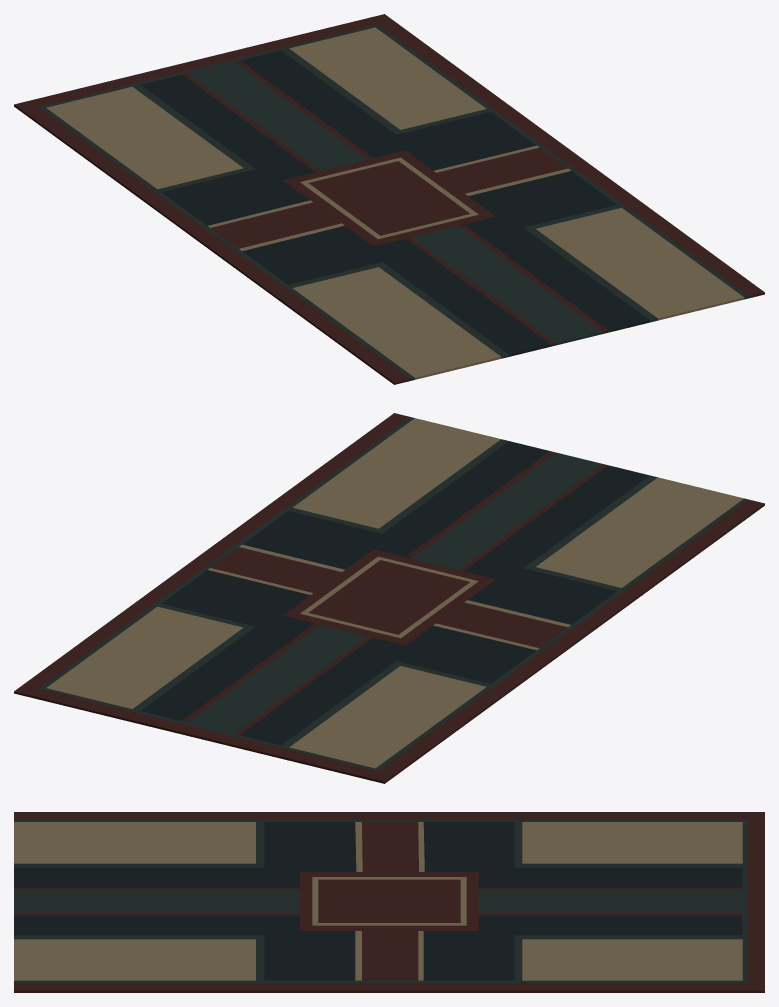
The model's file is Carpet_endpiece_001.fbx.
The picture shows the model from 3 angles, top to bottom: view 1: azimuth 30°, elevation 25°; view 2: azimuth 150°, elevation 25°; view 3: azimuth 270°, elevation 25°; orthographic projection.
Parts seen in each view (by area): view 1: carpet end_001; view 2: carpet end_001; view 3: carpet end_001.
Part boxes in pixels (bbox=[...]): carpet end_001: bbox=[14, 14, 764, 384]; carpet end_001: bbox=[14, 413, 764, 783]; carpet end_001: bbox=[14, 812, 764, 992].
Size of the model in its own units: 225 by 1.23 by 400.
